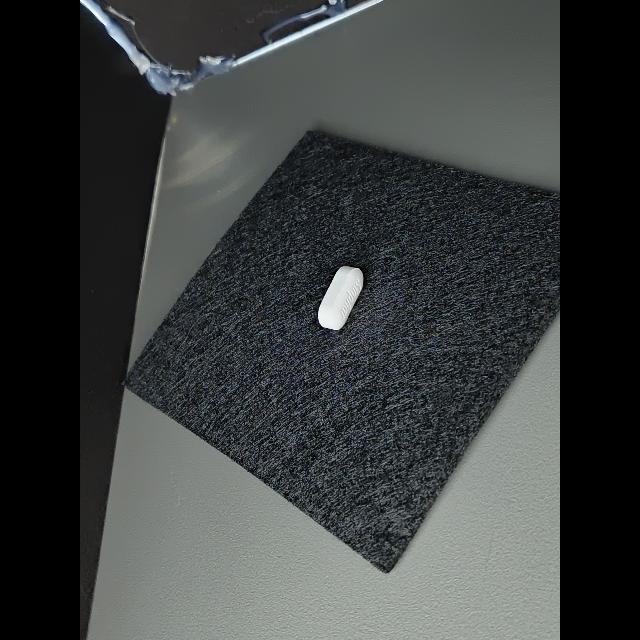Intact Pill: (318, 266, 363, 330)
